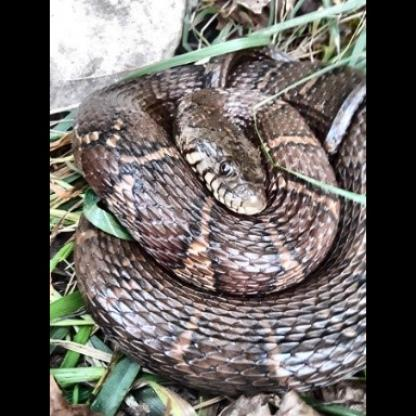Snake: (71, 38, 353, 380)
